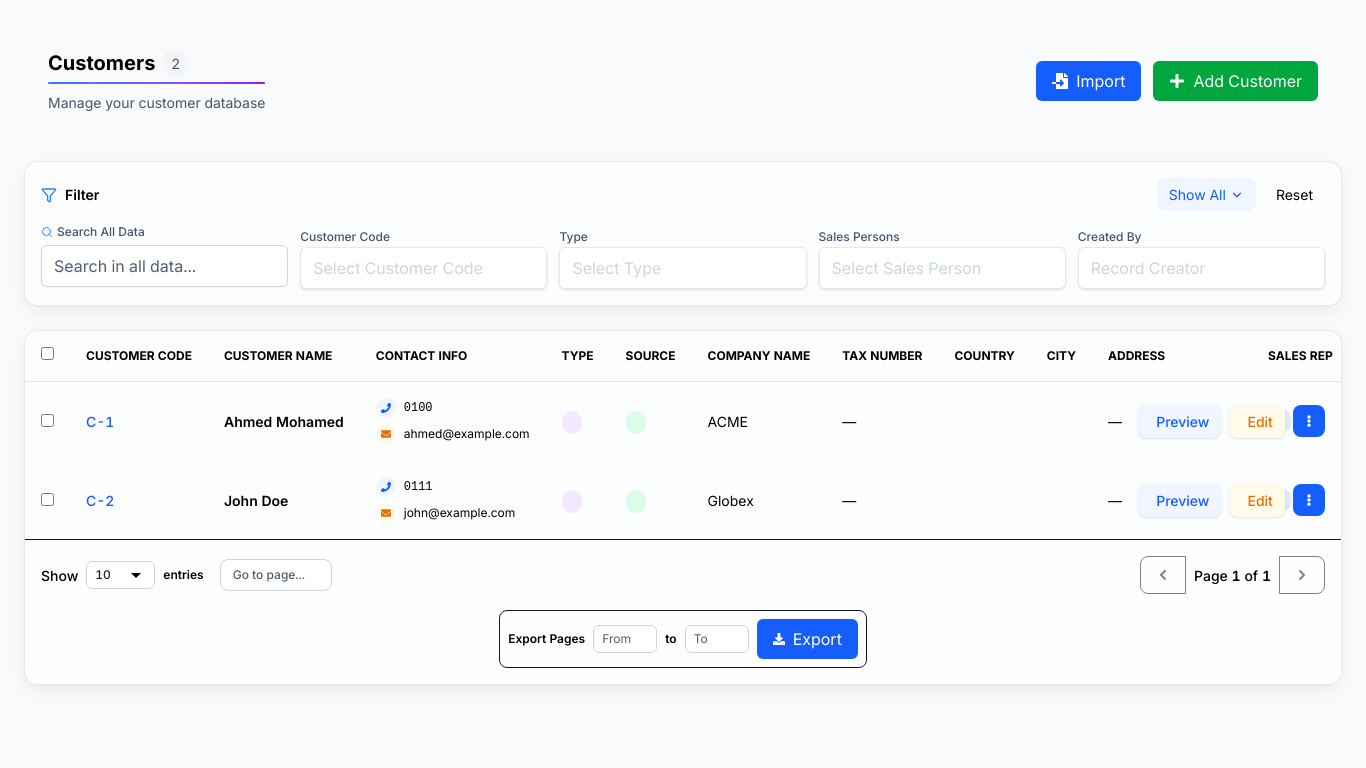
Test: Customers Page › shows bulk action bar when items are selected
This screenshot has width=1366, height=768.
Expected: the text "Ahmed Mohamed" is shown, top-left (208, 382), bottom-right (360, 460)
Click to select
Click the checkbox next to "C-1" at x=48, y=420, box top-left (41, 414), bottom-right (54, 426)
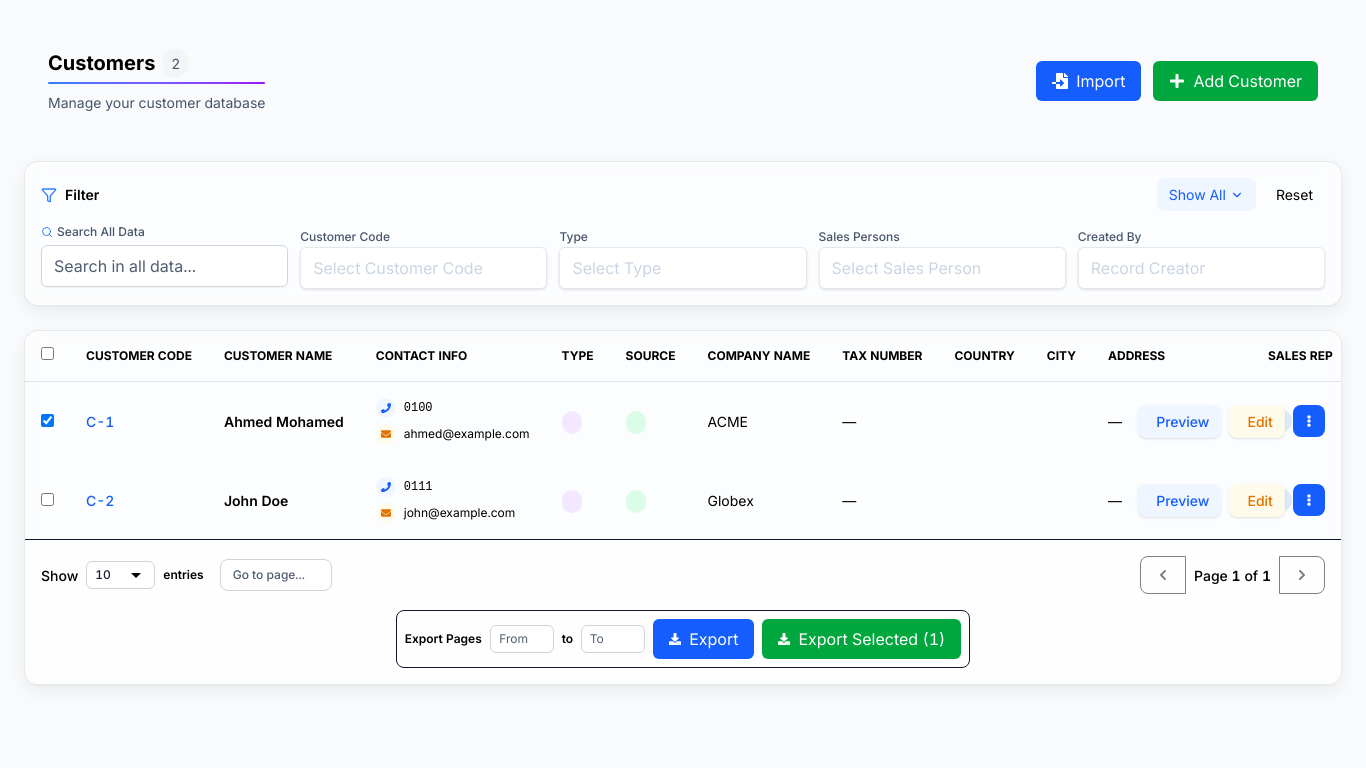
Now the button "Export Selected (1)" is shown, box top-left (762, 619), bottom-right (961, 659)
